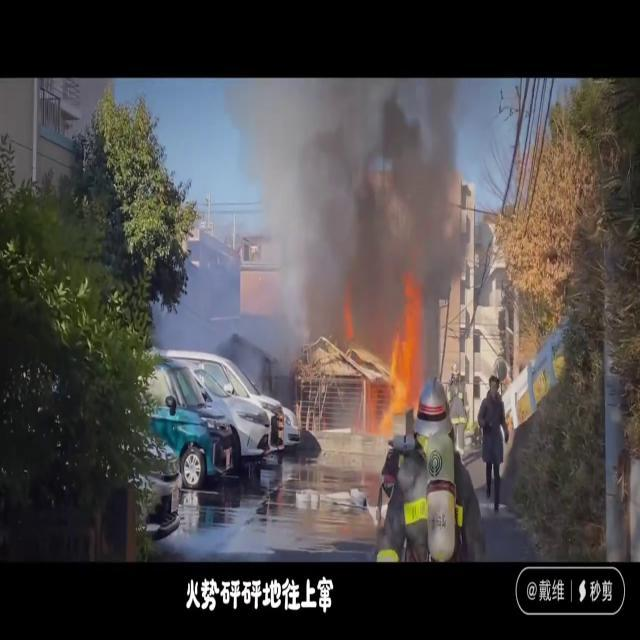Fire: (378, 270, 429, 419)
Smoke: (226, 78, 479, 344)
